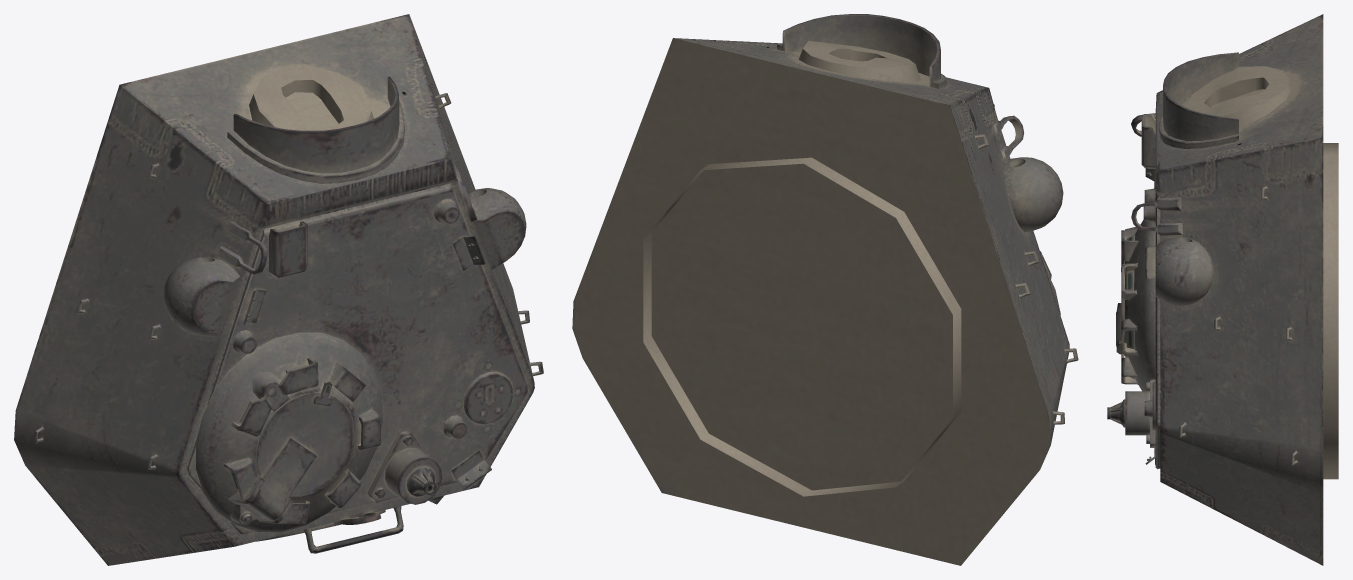
Rendered from Turret_01.glb.
3 views of the same model, side by side, from view 1: azimuth 30°, elevation 25°; view 2: azimuth 150°, elevation 25°; view 3: azimuth 270°, elevation 25° (orthographic). The views are drawn at different scales.
Visible parts, largest first — view 1: set_0_group_0; view 2: set_0_group_0; view 3: set_0_group_0.
Part boxes in pixels (<box>): set_0_group_0: <box>14,14,543,565</box>; set_0_group_0: <box>572,14,1078,565</box>; set_0_group_0: <box>1107,14,1338,565</box>.
Bounding box in the file's own units: 2.59 × 2.37 × 1.18.
1 material, 1 textured.
